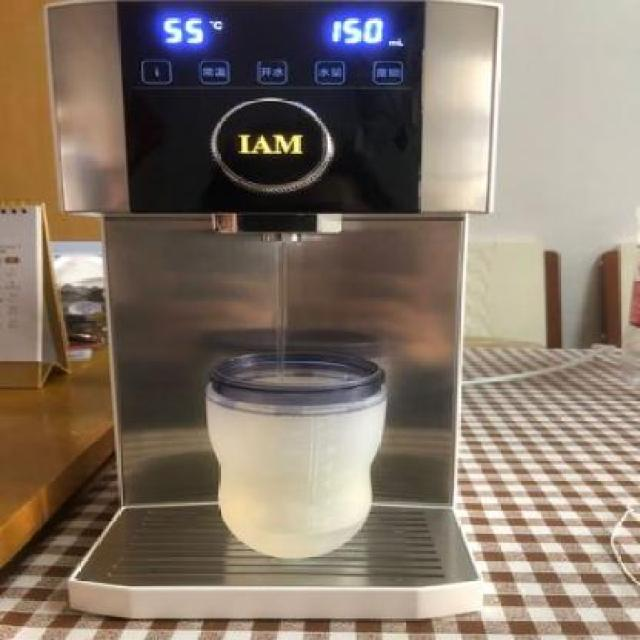cooler: (41, 0, 508, 622)
